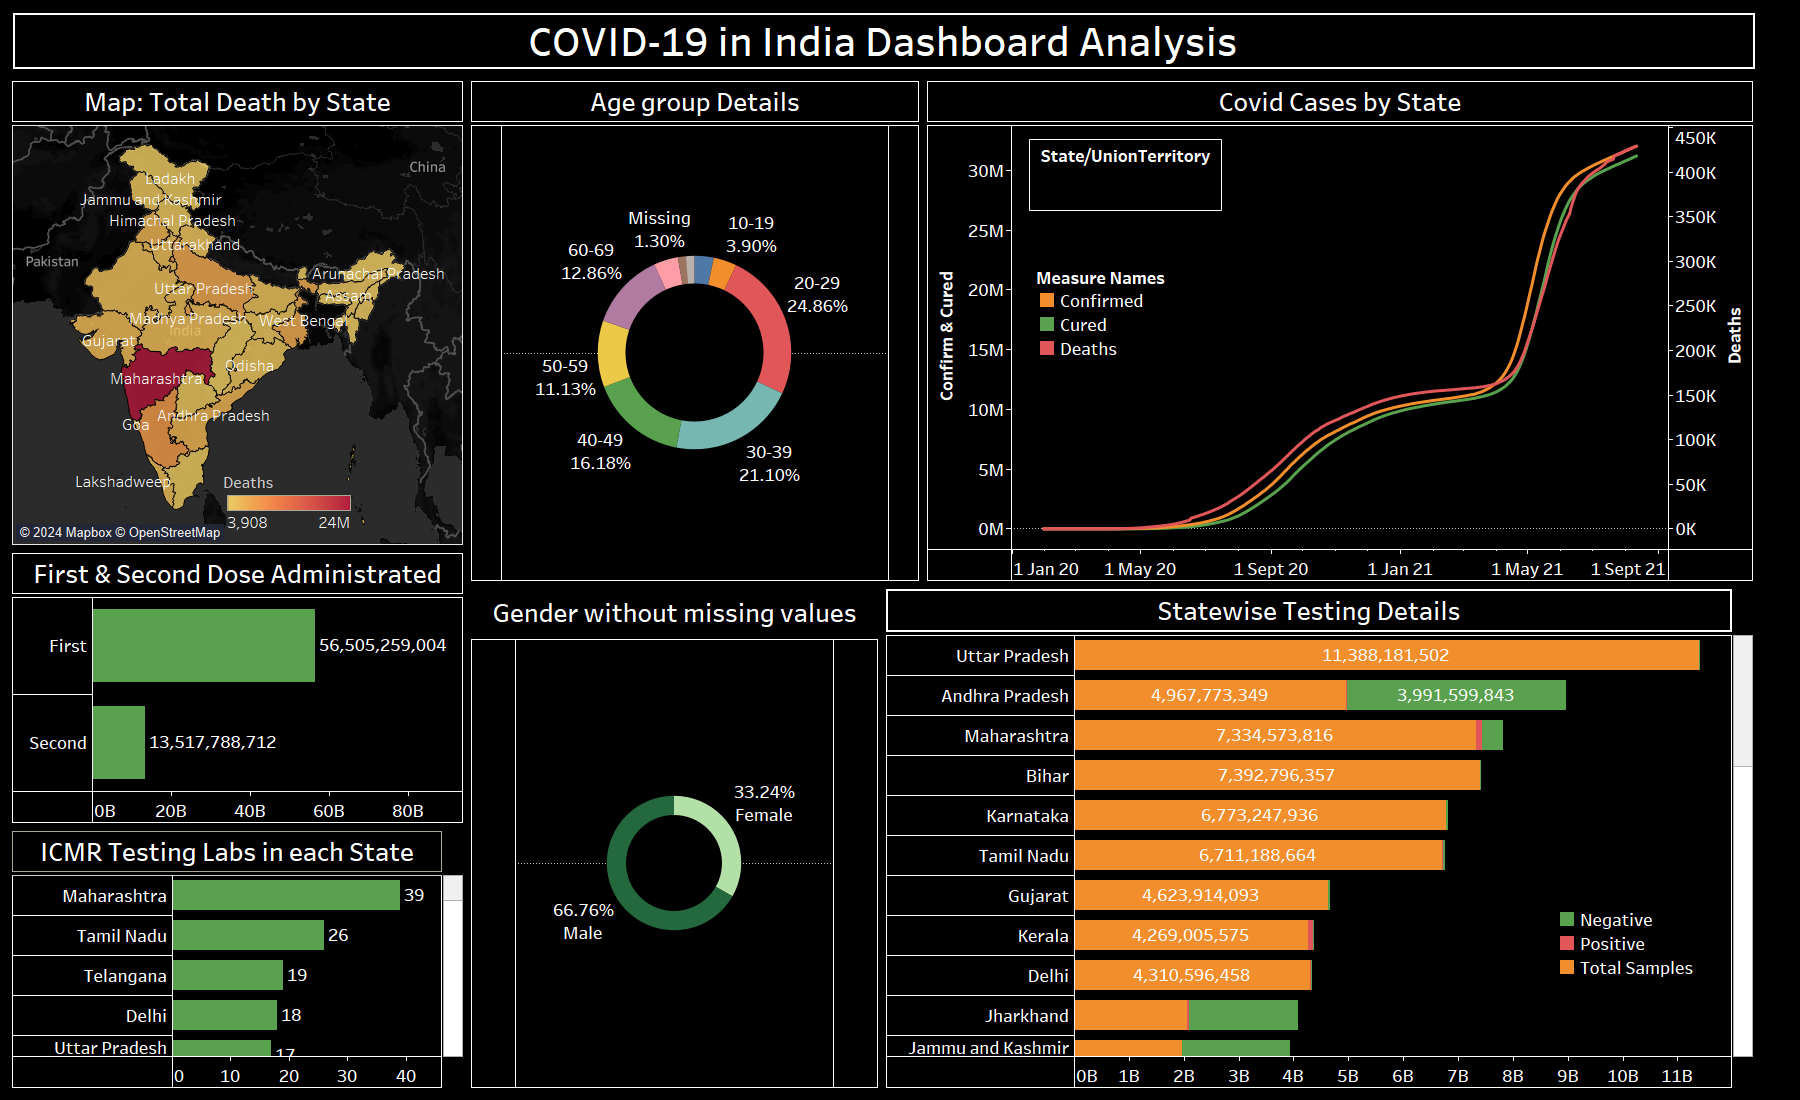

What the dashboard file says about the page in this screenshot:
{"tool":"tableau","page":{"name":"Dashboard 1","canvas":[1800,1100],"ordinal":0},"visuals":[{"type":"worksheet","title":"Title","mark":"Automatic","box":[8,8,1784,69]},{"type":"worksheet","title":"Map: Total Death by State","mark":"Automatic","box":[8,77,459,472]},{"type":"worksheet","title":"Age group Details","mark":"Pie","rows":["Calculation_467248502178357250","Calculation_467248502178373636"],"box":[467,77,456,507.5]},{"type":"worksheet","title":"Covid Cases by State","mark":"Automatic","rows":["Deaths"],"cols":["Date"],"box":[923,77,834,507.5]},{"type":"filter","title":"Covid Cases by State","param":"[federated.1hiqvtc0b63fx10ztxo7y0zpmv7g].[none:State/UnionTerritory:nk]","box":[1029,139,193,72]},{"type":"legend","title":"Covid Cases by State","param":"[federated.1hiqvtc0b63fx10ztxo7y0zpmv7g].[:Measure Names]","box":[1035,264,148,100]},{"type":"legend","title":"Map: Total Death by State","param":"[federated.1hiqvtc0b63fx10ztxo7y0zpmv7g].[sum:Deaths:qk]","box":[223,468,132,71]},{"type":"worksheet","title":"First & Second Dose Administrated","mark":"Automatic","box":[8,549,459,278]},{"type":"worksheet","title":"Gender without missing values","mark":"Pie","rows":["Calculation_467248502187339784","Calculation_467248502187356170"],"box":[467,584.5,415.5,507.5]},{"type":"worksheet","title":"Statewise Testing Details","mark":"Automatic","rows":["State"],"box":[882.5,584.5,874.5,507.5]},{"type":"worksheet","title":"ICMR Testing Labs in each State","mark":"Automatic","rows":["state"],"cols":["lab"],"box":[8,827,459,265]},{"type":"legend","title":"Statewise Testing Details","param":"[federated.1ccp4oo1yd60vu19c92jq0evc5ck].[:Measure Names]","box":[1555,907,143,72]}]}

Visuals, with their boxes in screenshot pixels (x1, y1, x2, y2), scaled from the page's 1800x1100 canvas onto the 1800x1100 screenshot:
"Title" worksheet: region(8, 8, 1792, 77)
"Map: Total Death by State" worksheet: region(8, 77, 467, 549)
"Age group Details" worksheet (Pie marks): region(467, 77, 923, 584)
"Covid Cases by State" worksheet: region(923, 77, 1757, 584)
"Covid Cases by State" filter: region(1029, 139, 1222, 211)
"Covid Cases by State" legend: region(1035, 264, 1183, 364)
"Map: Total Death by State" legend: region(223, 468, 355, 539)
"First & Second Dose Administrated" worksheet: region(8, 549, 467, 827)
"Gender without missing values" worksheet (Pie marks): region(467, 584, 882, 1092)
"Statewise Testing Details" worksheet: region(882, 584, 1757, 1092)
"ICMR Testing Labs in each State" worksheet: region(8, 827, 467, 1092)
"Statewise Testing Details" legend: region(1555, 907, 1698, 979)
